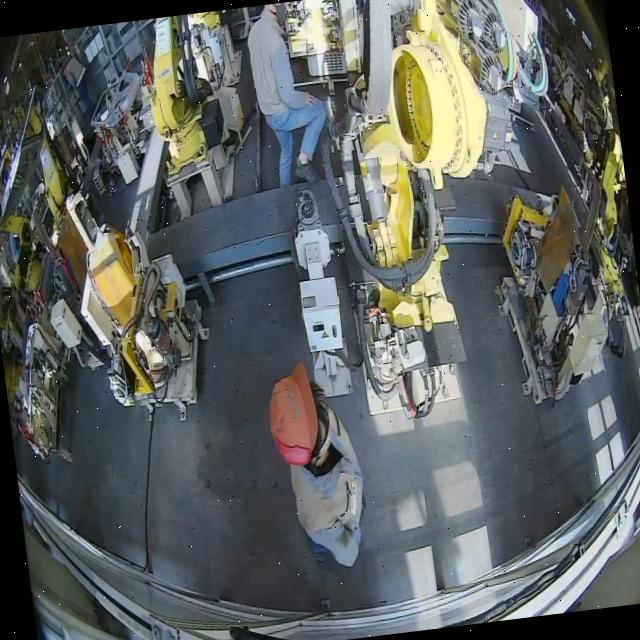Person: (262, 356, 374, 576), (242, 0, 335, 188)
